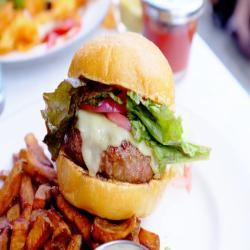burger: (50, 31, 181, 221)
fries: (6, 165, 64, 246)
